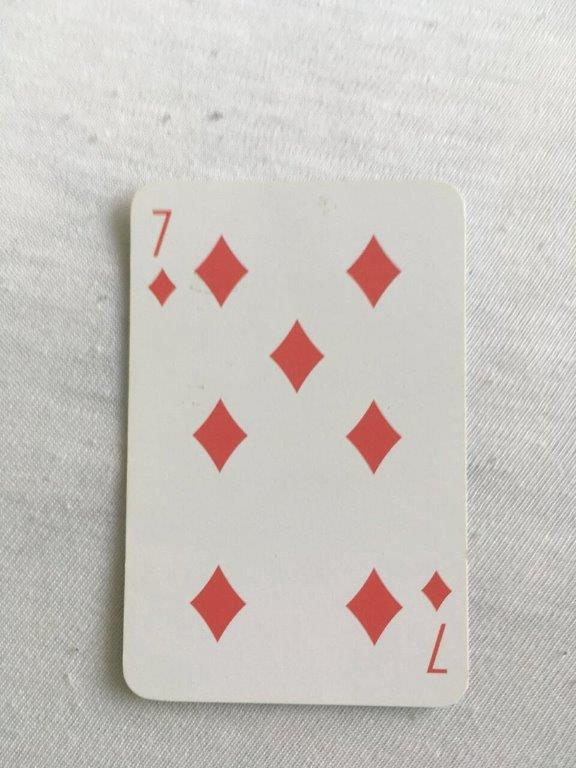7D: (118, 176, 473, 712)
